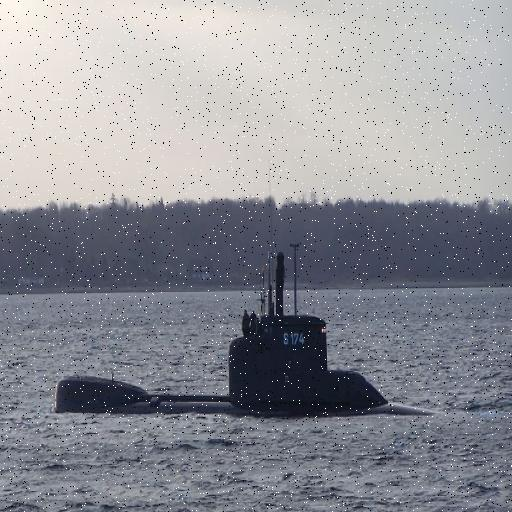submarine: (56, 313, 434, 418)
